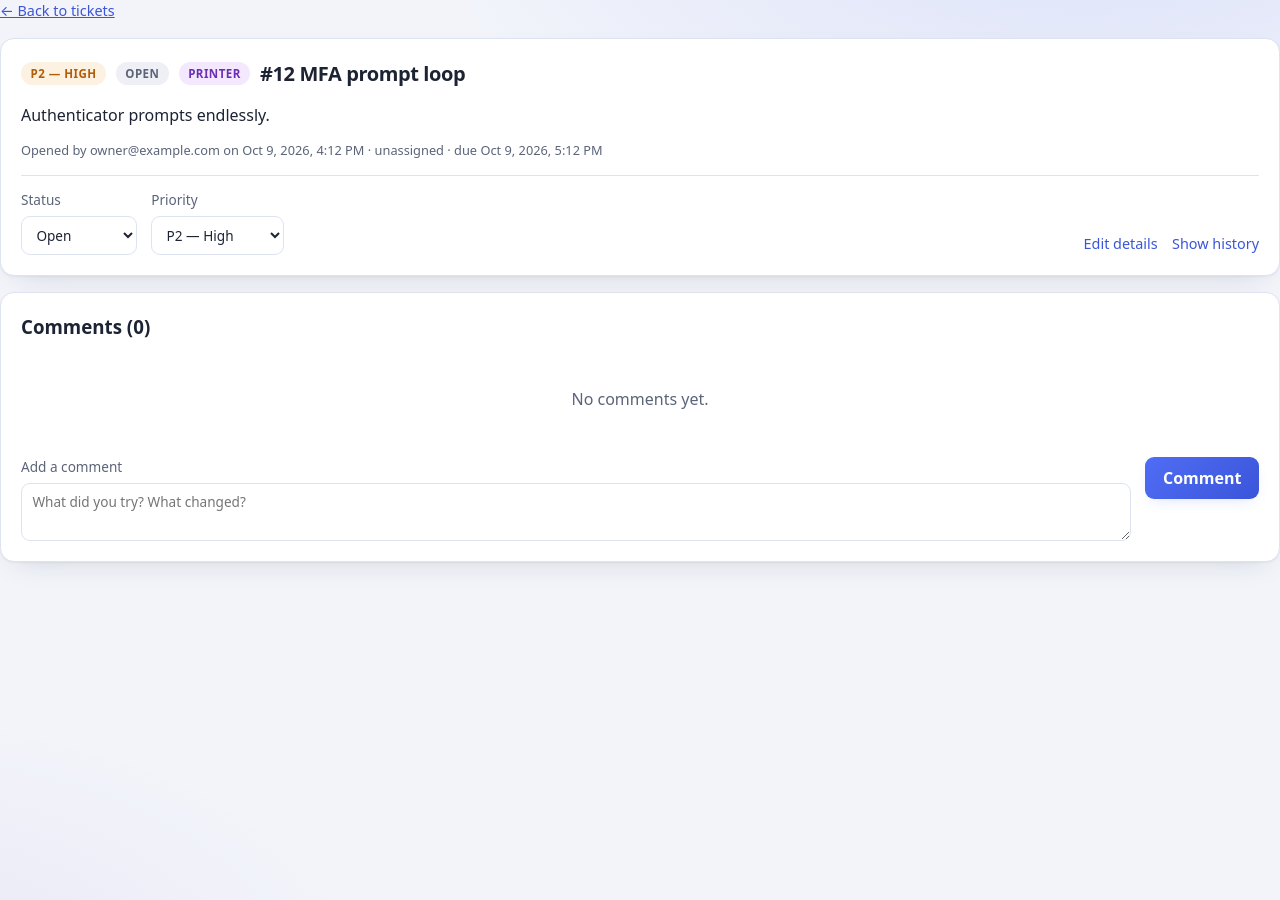
Test case: edit details › saves title, description, and a numeric or null category, then closes
Expected: the heading "#12 MFA prompt loop" is shown, [260,59,465,89]
Click the button "Edit details". click: (1121, 244)
box: [1084,233,1158,254]
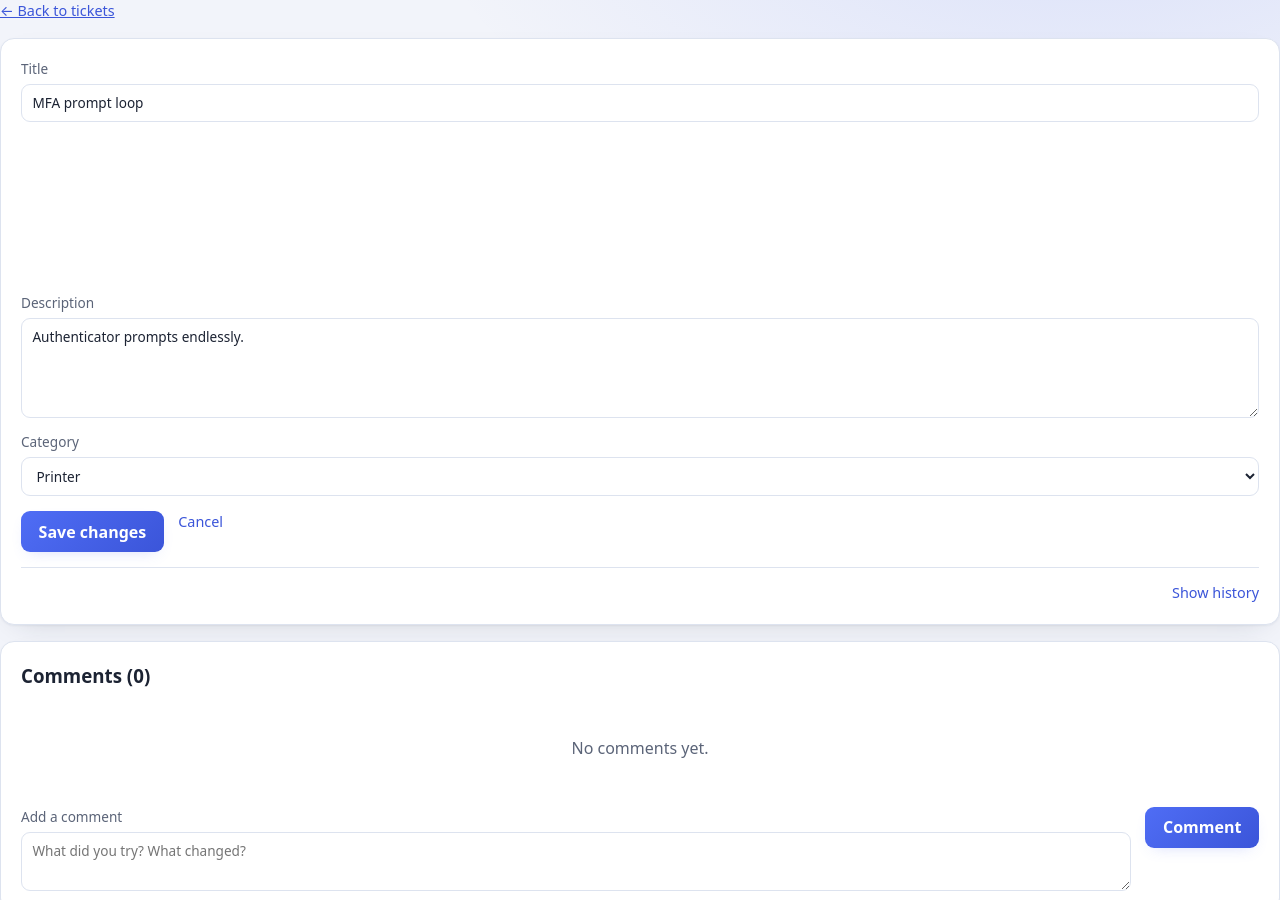
Replace the text in the field labelled "Title" with "MFA loop on new phone". click: (640, 103)
box: [21,84,1259,122]
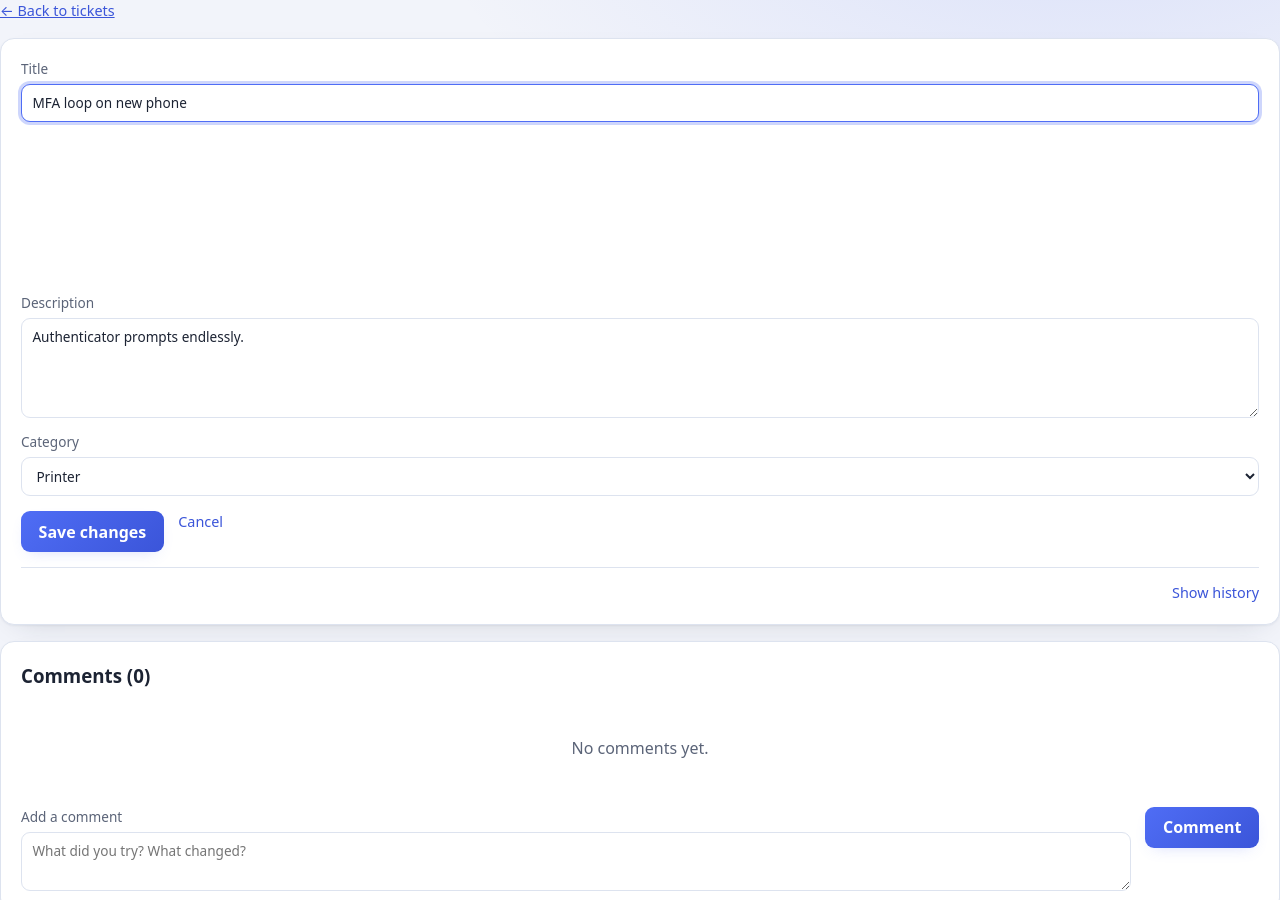
Select "No category" in the dropdown labelled "Category". click: (640, 477)
box: [21,457,1259,496]
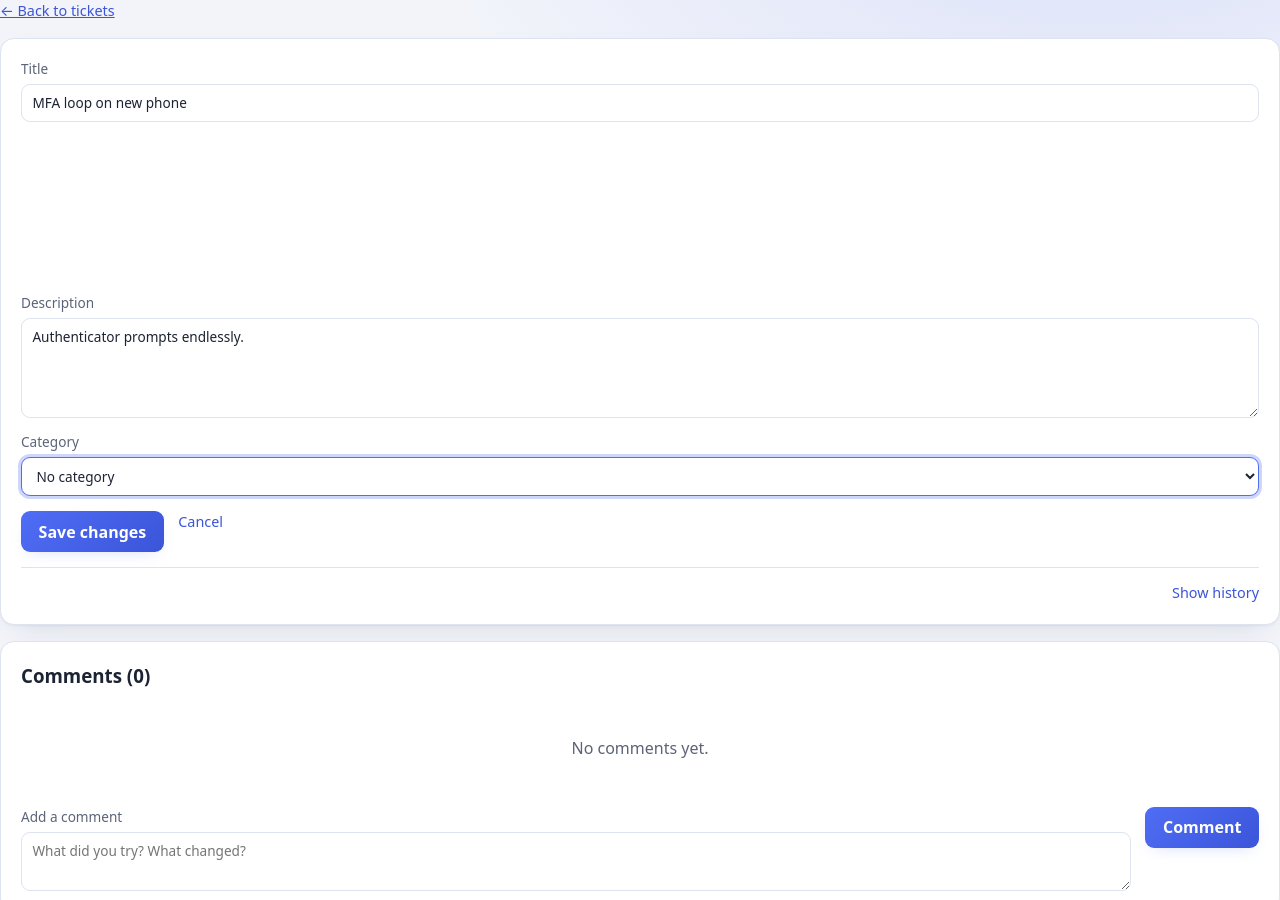
Click the button "Save changes". click: (92, 532)
box: [21,511,164,552]
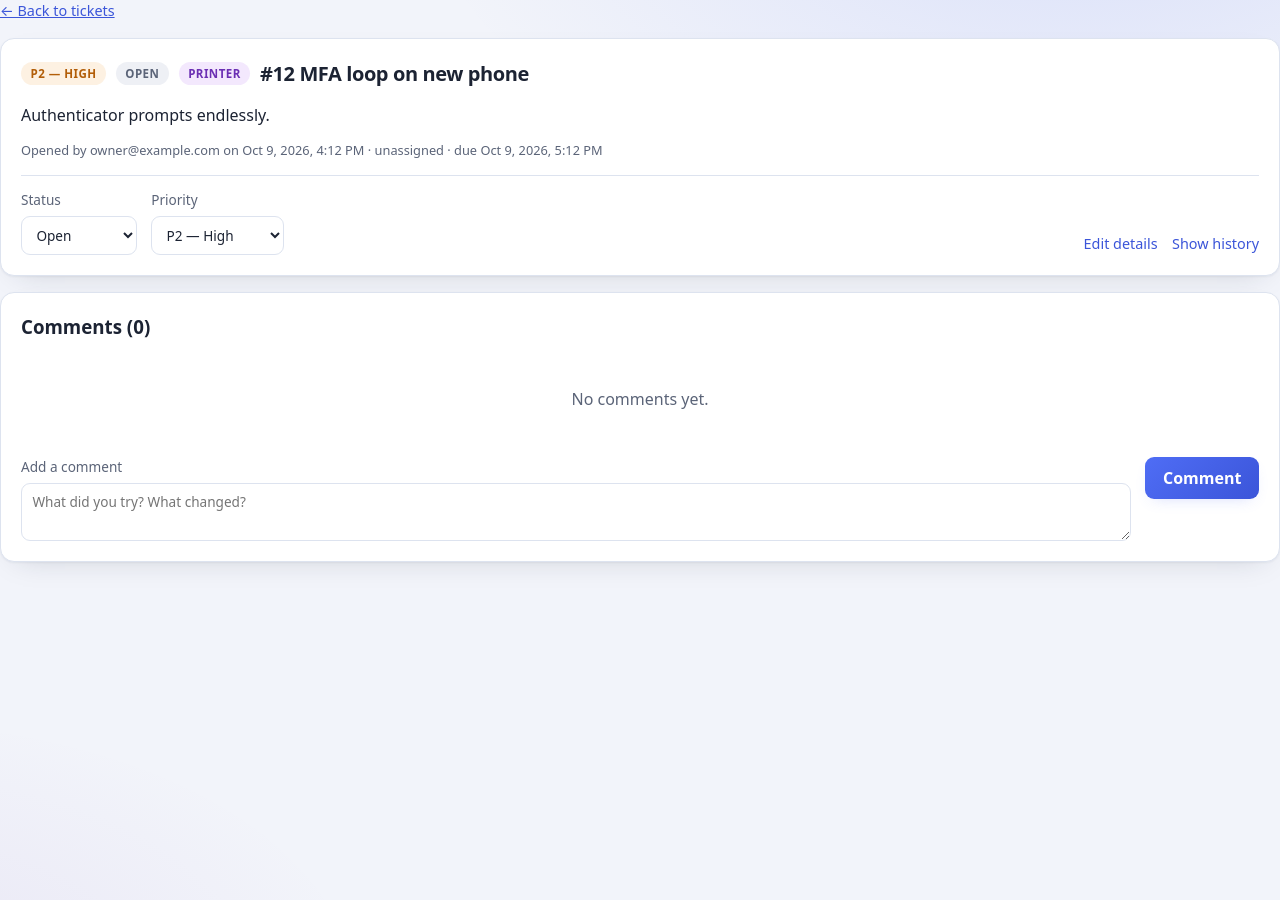
Result: the heading "#12 MFA loop on new phone" is shown at [260,59,529,89]
Result: the text labelled "Title" is gone
